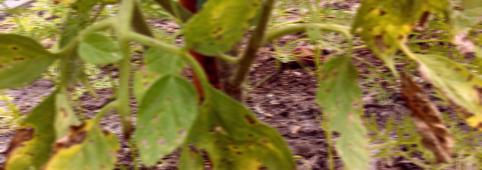Tomato Septoria leaf spot: (130, 74, 203, 167), (343, 0, 436, 72), (317, 55, 373, 170), (408, 52, 482, 137), (0, 92, 73, 170), (185, 0, 266, 62), (31, 118, 118, 170), (0, 32, 53, 100)
